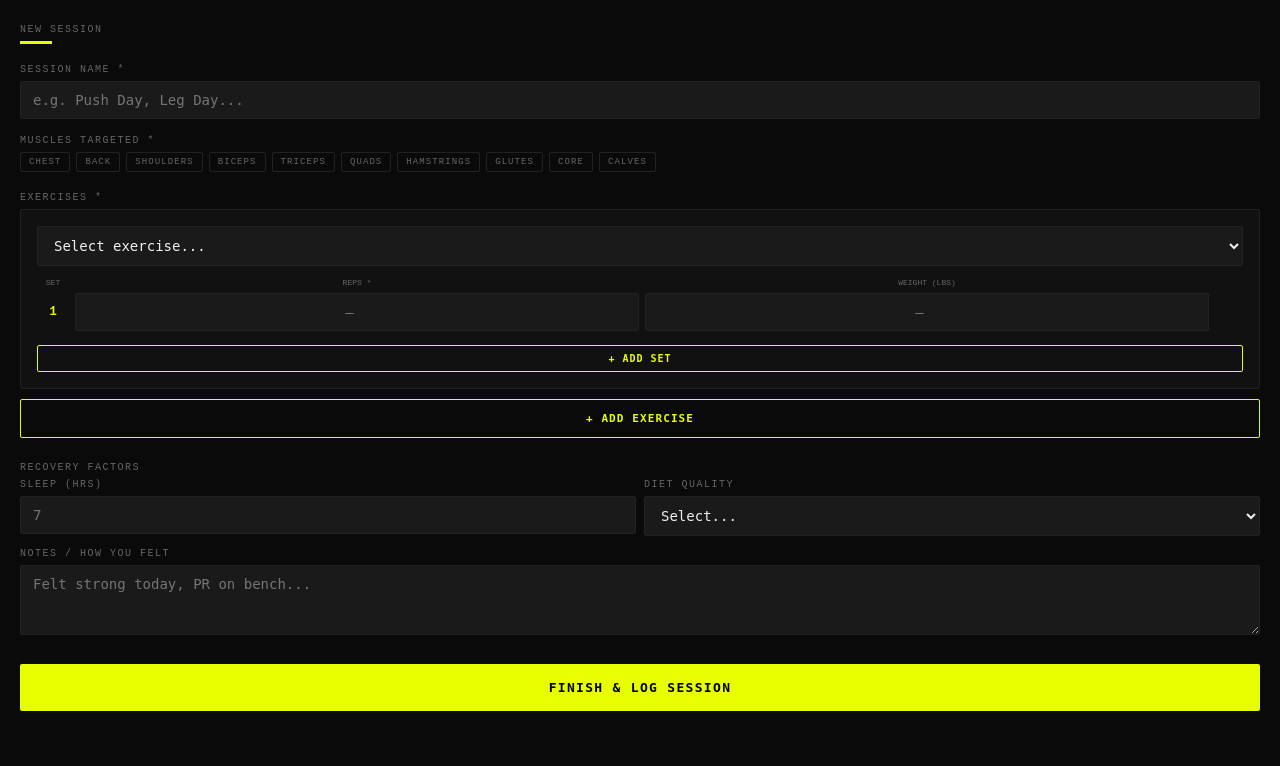
LogWorkout component › US-01: shows error if saving with no session name
Click the button with test id "save-workout" at (640, 688), box [20,664,1260,711]
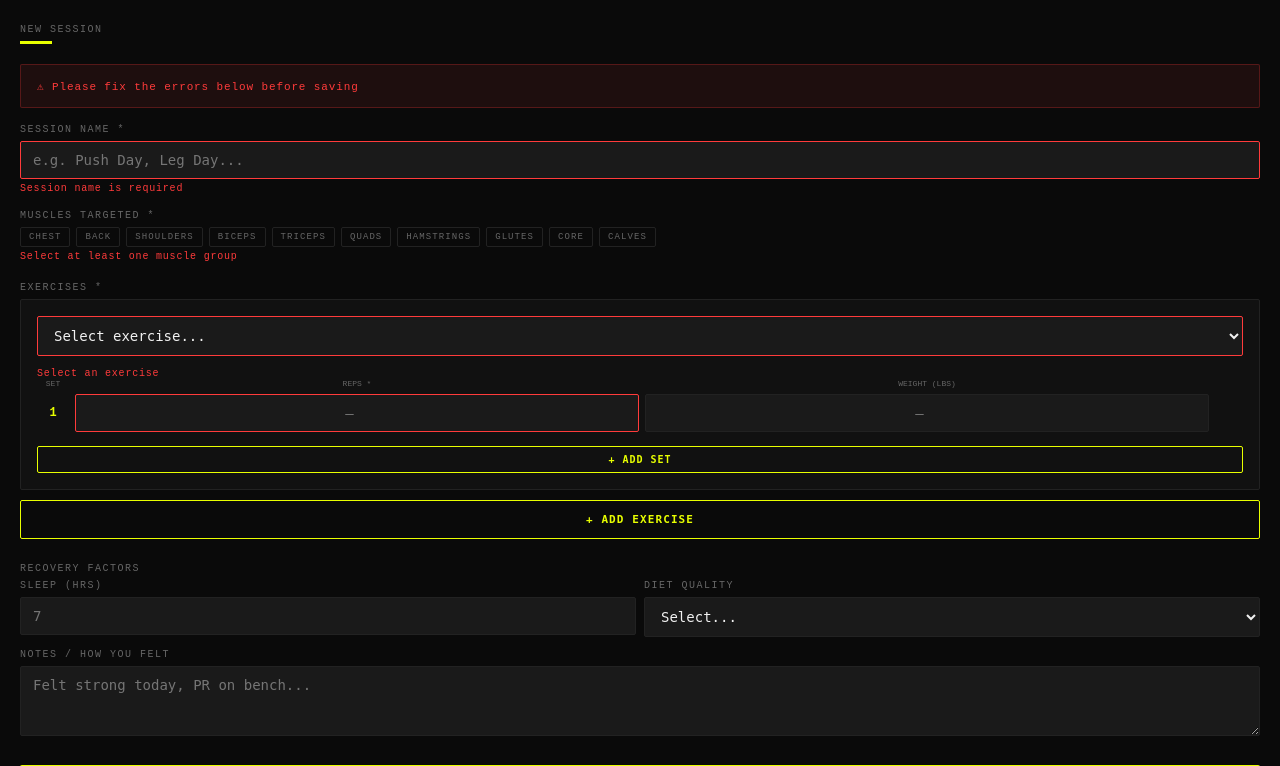
Expected: the text "Session name is required" is shown, [20,183,183,194]
